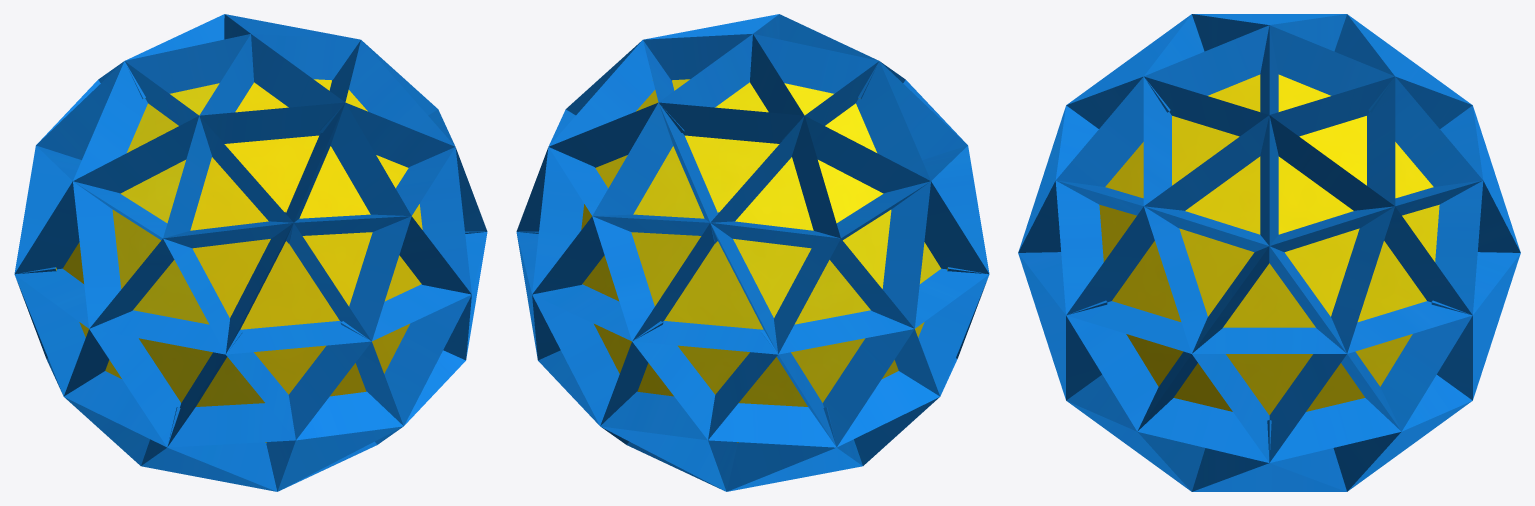
Rendered from geo_ball.glb.
The picture shows the model from 3 angles, left to right: view 1: azimuth 30°, elevation 25°; view 2: azimuth 150°, elevation 25°; view 3: azimuth 270°, elevation 25°; orthographic projection. The views are drawn at different scales.
Parts seen in each view (by area): view 1: Object_12; view 2: Object_12; view 3: Object_12.
Part boxes in pixels (x1,y1,x2,y2): Object_12: (14, 14, 487, 491); Object_12: (516, 14, 989, 491); Object_12: (1018, 14, 1520, 491).
Bounding box in the file's own units: 0.9679 × 1.02 × 1.02.
Materials: 1 (1 with a texture image).
